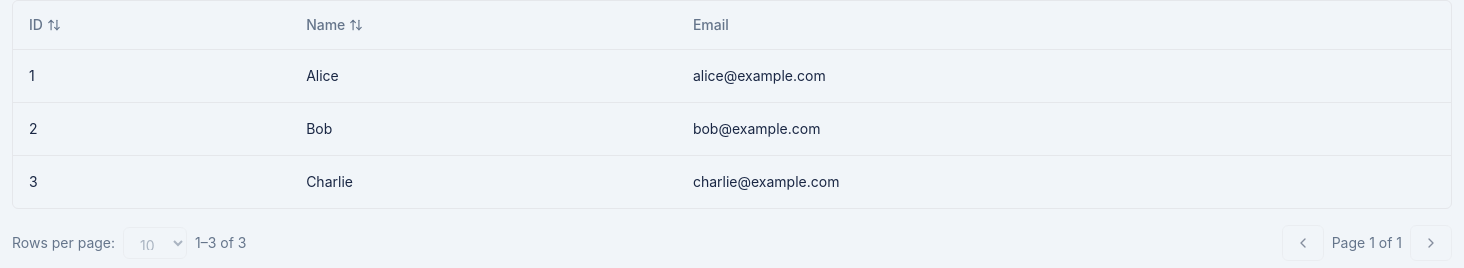
DataTable › sorts descending on second click
What coordinates should you click on to do the following:
click the button with aria-label "Sort by Name"
I would click on:
 (335, 25)
Its box is x1=306 y1=15 x2=363 y2=35.
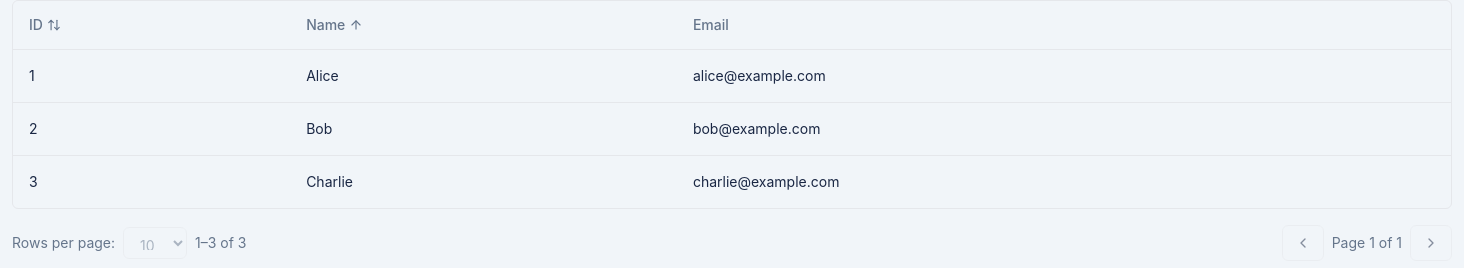
What coordinates should you click on to do the following:
click the button with aria-label "Sort by Name"
I would click on:
 (335, 25)
Its box is x1=306 y1=15 x2=363 y2=35.
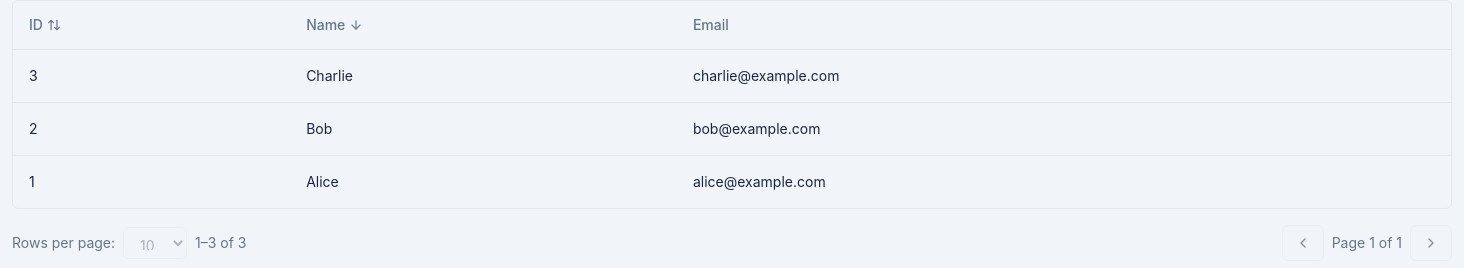
Expected: the cell "Bob" is shown, x1=290 y1=102 x2=677 y2=155
Now the cell "Charlie" is shown, box x1=290 y1=49 x2=677 y2=102
Now the cell "Alice" is shown, box x1=290 y1=155 x2=677 y2=208
